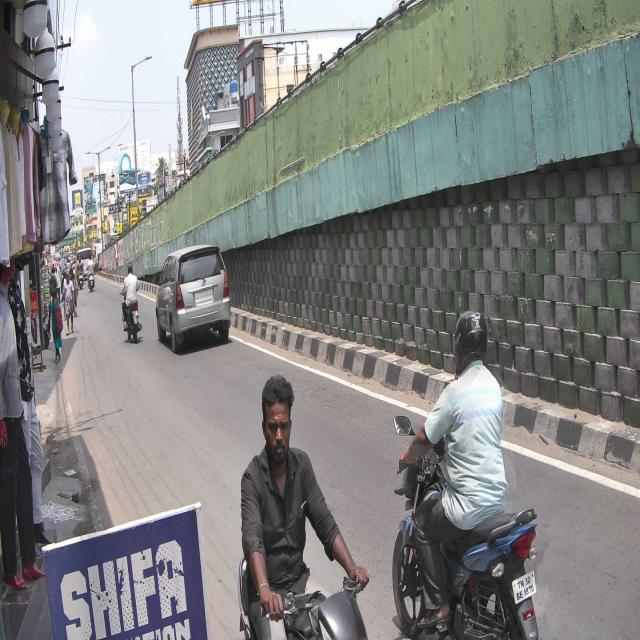single_rider: (392, 307, 540, 640)
